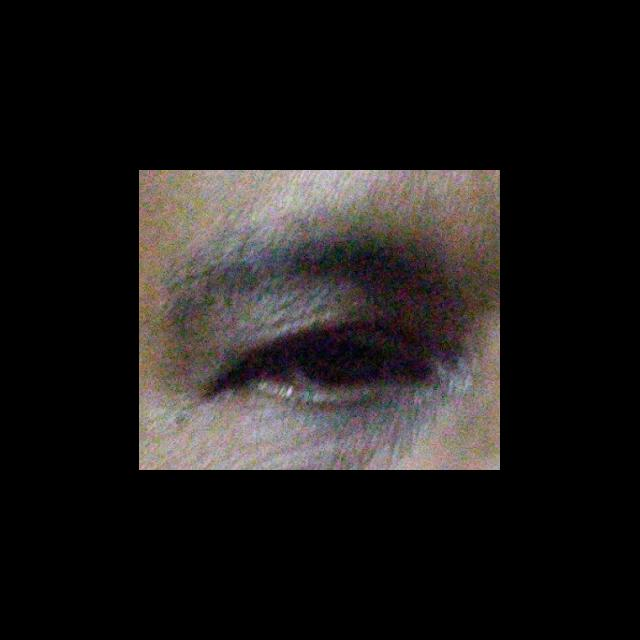eye: (258, 329, 416, 386)
iris: (296, 333, 396, 381)
